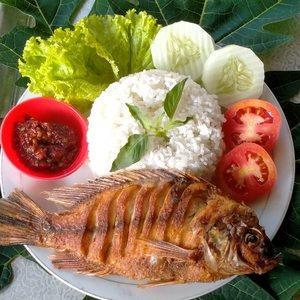buah_sayur_lainnya: (53, 34, 121, 76), (213, 55, 252, 94), (160, 35, 196, 69)
buah_sayur_vitA: (22, 117, 72, 159), (224, 109, 271, 146), (226, 159, 268, 198)
daging: (76, 192, 203, 270)
makanan_berpati: (109, 87, 199, 163)
